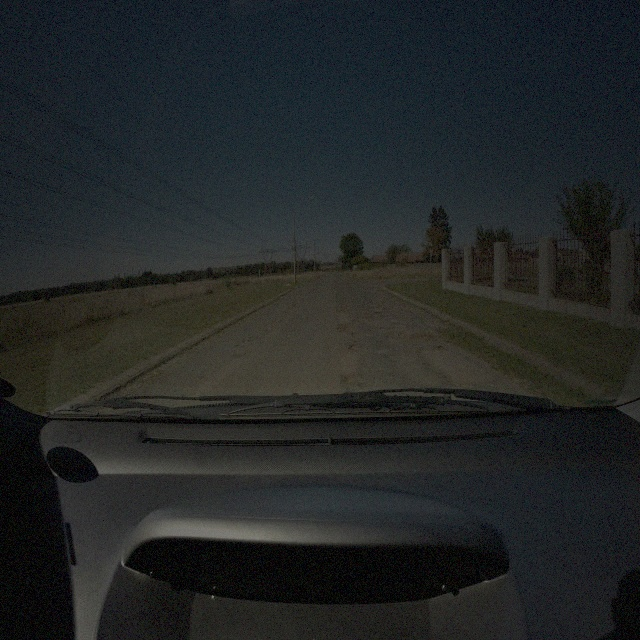pothole: (339, 370, 362, 388), (399, 331, 430, 341), (336, 325, 353, 336), (349, 342, 364, 354), (376, 299, 390, 311), (363, 314, 376, 325), (337, 305, 351, 315), (434, 342, 448, 352)
